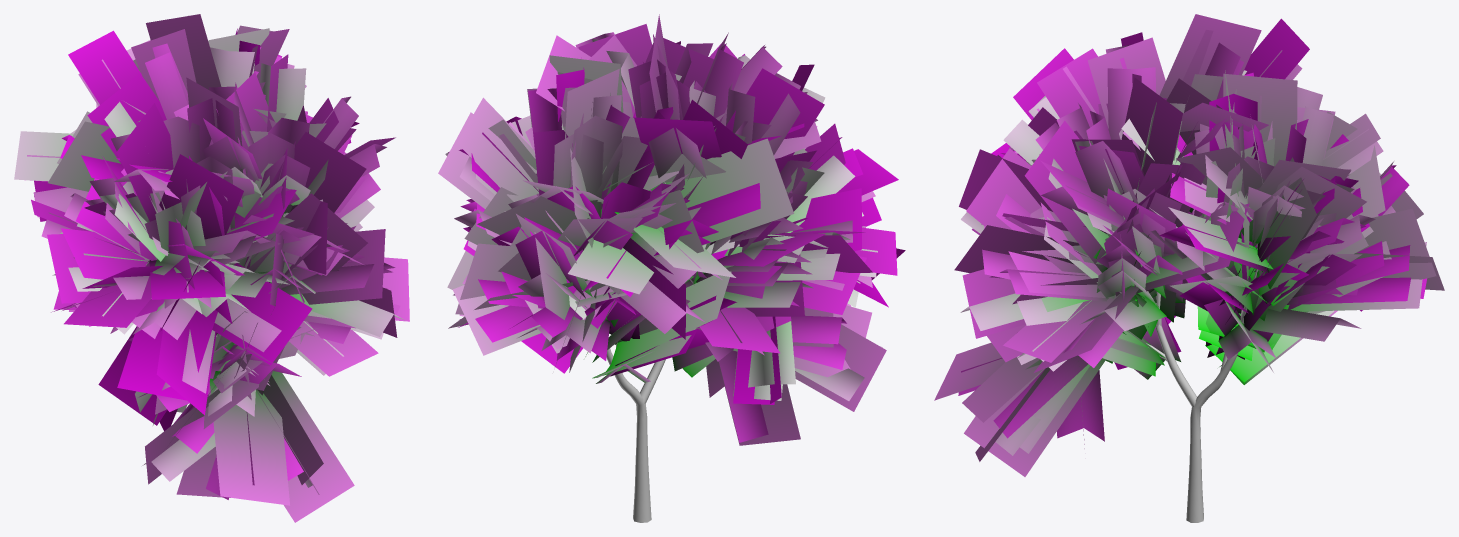
File: rowan_07.fbx
3 views of the same model, side by side, from view 1: azimuth 30°, elevation 25°; view 2: azimuth 150°, elevation 25°; view 3: azimuth 270°, elevation 25° (orthographic). The views are drawn at different scales.
Visible parts, largest first — view 1: rowan_leaves_07_shadow, rowan_leaves_07_lod0; view 2: rowan_leaves_07_shadow, rowan_leaves_07_lod0, rowan_tree_07_lod0; view 3: rowan_leaves_07_shadow, rowan_leaves_07_lod0, rowan_tree_07_lod0.
Boxes of the visible parts, bbox=[...] form: rowan_leaves_07_shadow: bbox=[14, 14, 409, 522]; rowan_leaves_07_lod0: bbox=[24, 28, 404, 499]; rowan_leaves_07_shadow: bbox=[438, 14, 905, 445]; rowan_leaves_07_lod0: bbox=[448, 32, 877, 442]; rowan_tree_07_lod0: bbox=[606, 342, 665, 522]; rowan_leaves_07_shadow: bbox=[934, 14, 1444, 476]; rowan_leaves_07_lod0: bbox=[958, 42, 1426, 455]; rowan_tree_07_lod0: bbox=[1146, 244, 1258, 522].
Size of what is drawn, in the model's own units: 3.72 by 4.99 by 4.64.
